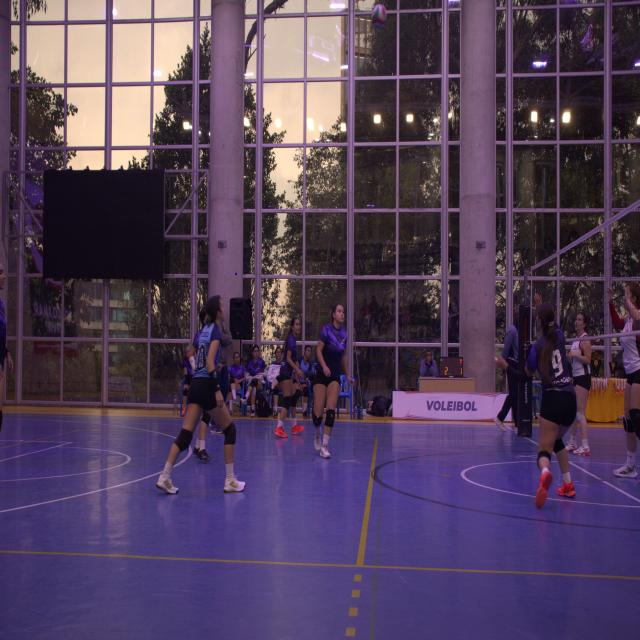volleyball: (371, 4, 387, 27)
